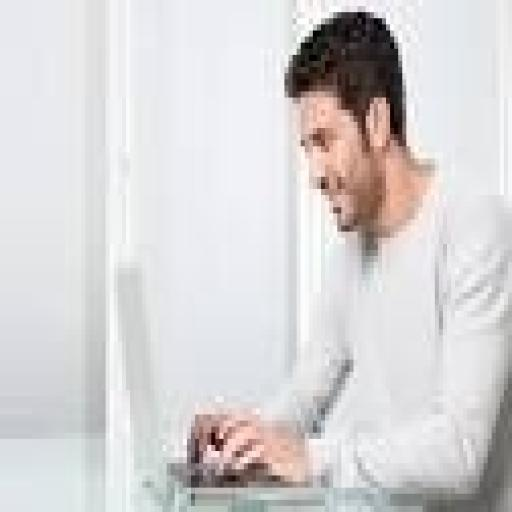using_laptop: (48, 252, 374, 512)
